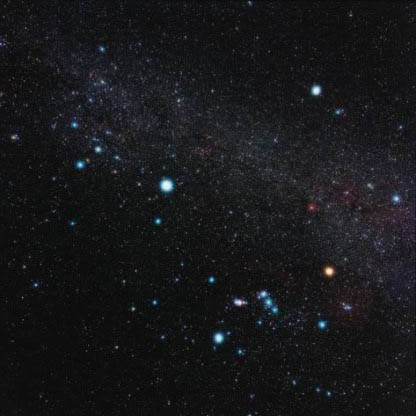Orion: (208, 330, 231, 350), (320, 260, 340, 279), (314, 316, 333, 332), (203, 270, 219, 287), (269, 308, 283, 322), (261, 296, 278, 307), (256, 284, 270, 297)
